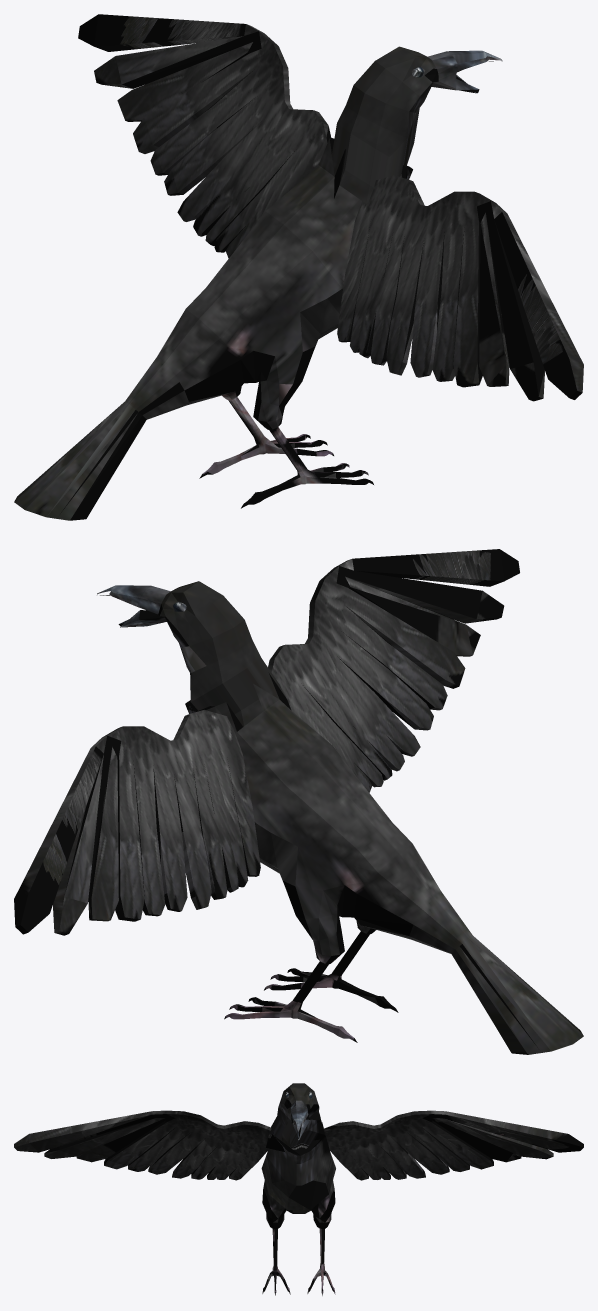
Rendered from CrowBent0_000000.obj.
3 views of the same model, one above another, from view 1: azimuth 30°, elevation 25°; view 2: azimuth 150°, elevation 25°; view 3: azimuth 270°, elevation 25° (orthographic). The views are drawn at different scales.
Parts seen in each view (by area): view 1: Cylinder.009, Cylinder.003, Cylinder.002, Cylinder.001; view 2: Cylinder.009, Cylinder.002, Cylinder.003, Cylinder.001; view 3: Cylinder.002, Cylinder.003, Cylinder.009, Cylinder.001.
Boxes of the visible parts, bbox=[...] form: Cylinder.009: bbox=[14, 138, 410, 520]; Cylinder.003: bbox=[337, 175, 583, 401]; Cylinder.002: bbox=[78, 14, 331, 258]; Cylinder.001: bbox=[330, 46, 502, 203]; Cylinder.009: bbox=[187, 684, 583, 1054]; Cylinder.002: bbox=[14, 710, 260, 935]; Cylinder.003: bbox=[268, 549, 519, 792]; Cylinder.001: bbox=[97, 581, 291, 731]; Cylinder.002: bbox=[324, 1110, 583, 1180]; Cylinder.003: bbox=[14, 1110, 271, 1180]; Cylinder.009: bbox=[261, 1135, 335, 1295]; Cylinder.001: bbox=[266, 1083, 325, 1155].
Bounding box in the file's own units: 5.22 × 4.1 × 9.33.
4 materials, 4 textured.
